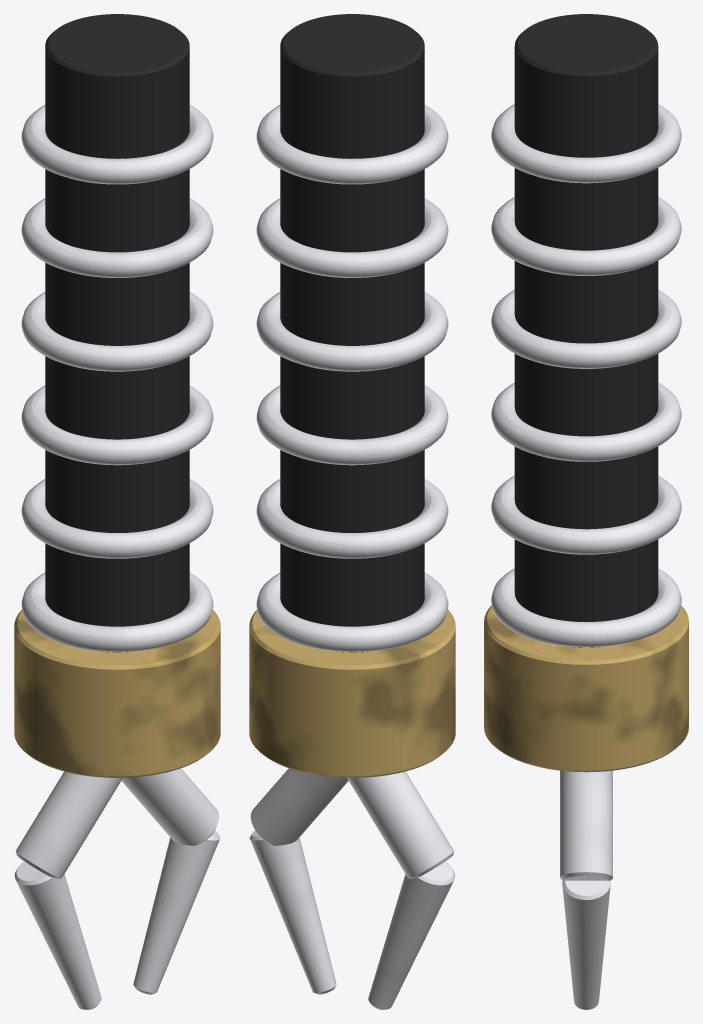
The model's file is sentry_arm.glb.
3 renders of one model, left to right at view 1: azimuth 30°, elevation 25°; view 2: azimuth 150°, elevation 25°; view 3: azimuth 270°, elevation 25°, orthographic.
Parts seen in each view (by area): view 1: sentry_arm; view 2: sentry_arm; view 3: sentry_arm.
Part boxes in pixels (x1=…): sentry_arm: x1=14, y1=14, x2=220, y2=1009; sentry_arm: x1=249, y1=14, x2=455, y2=1009; sentry_arm: x1=484, y1=14, x2=688, y2=1009.
Bounding box in the file's own units: 0.2224 × 1.02 × 0.2.
Materials: 3 (2 with a texture image).
